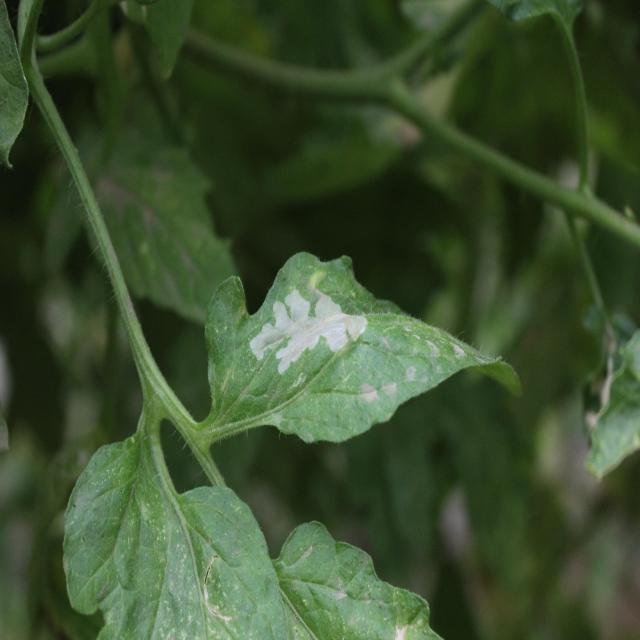Tuta absoluta: (244, 272, 371, 400)
